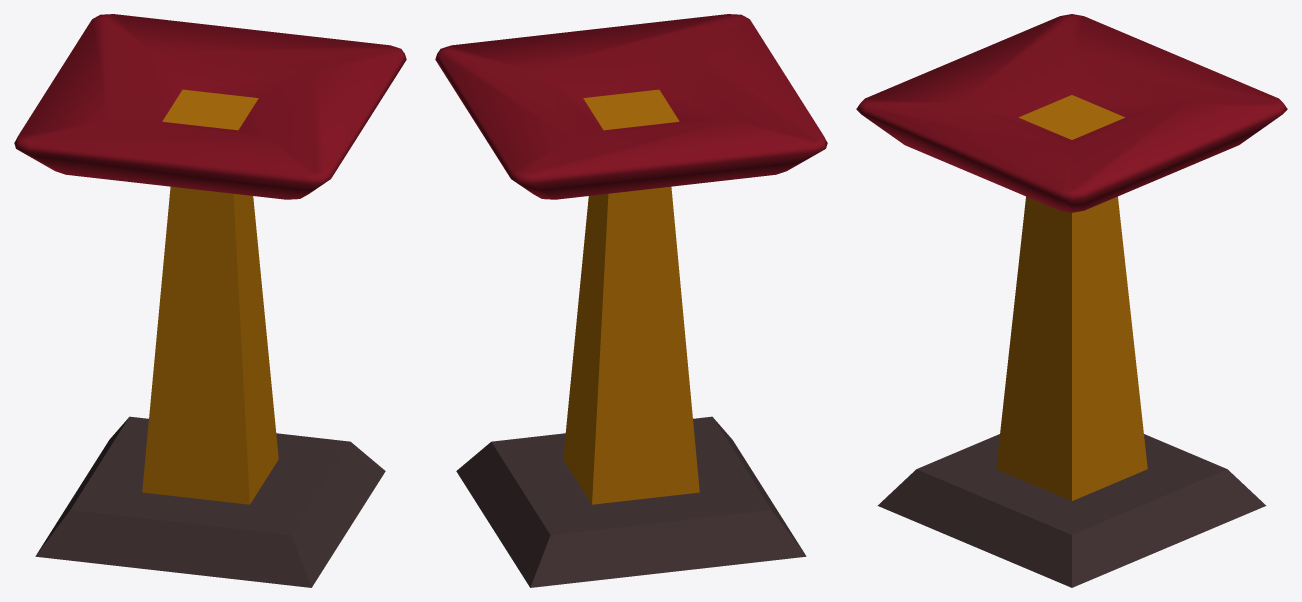
File: Barstool.fbx
3 views of the same model, side by side, from view 1: azimuth 30°, elevation 25°; view 2: azimuth 150°, elevation 25°; view 3: azimuth 270°, elevation 25° (orthographic). The views are drawn at different scales.
Parts seen in each view (by area): view 1: Barstool; view 2: Barstool; view 3: Barstool.
Part boxes in pixels (x1,y1,x2,y2): Barstool: [14, 14, 406, 587]; Barstool: [435, 14, 827, 587]; Barstool: [856, 14, 1287, 587].
Size of the model in its own units: 74.89 by 77 by 74.89.
